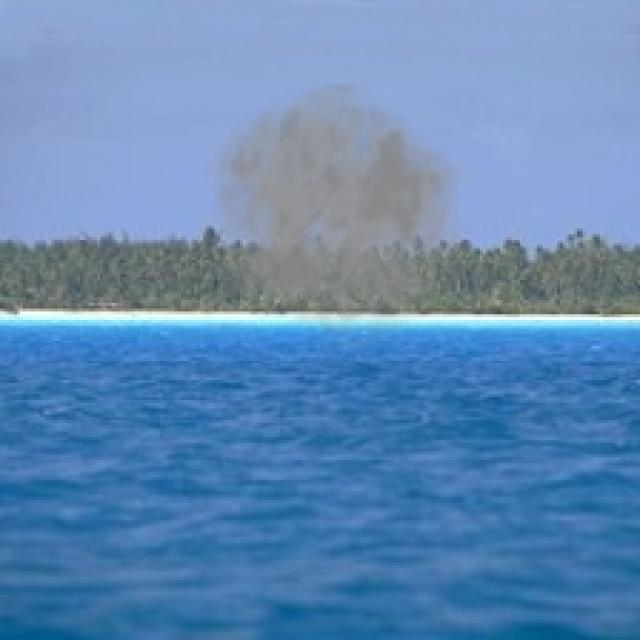smoke: (203, 80, 480, 354)
